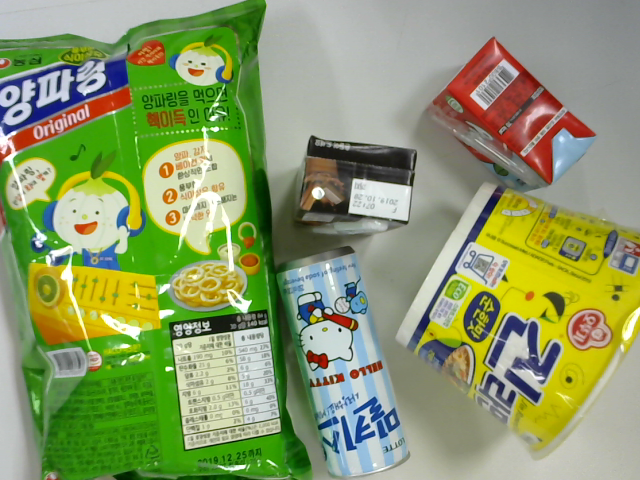Hush_Choco_Drink: (288, 125, 413, 246)
Jinlamyeon_Mild_Taste_Large_Cup: (393, 186, 640, 446)
Milkies_250ml: (266, 239, 412, 480)
Oninon_Ring: (1, 1, 277, 480)
Picnic_Apple: (428, 41, 597, 180)
